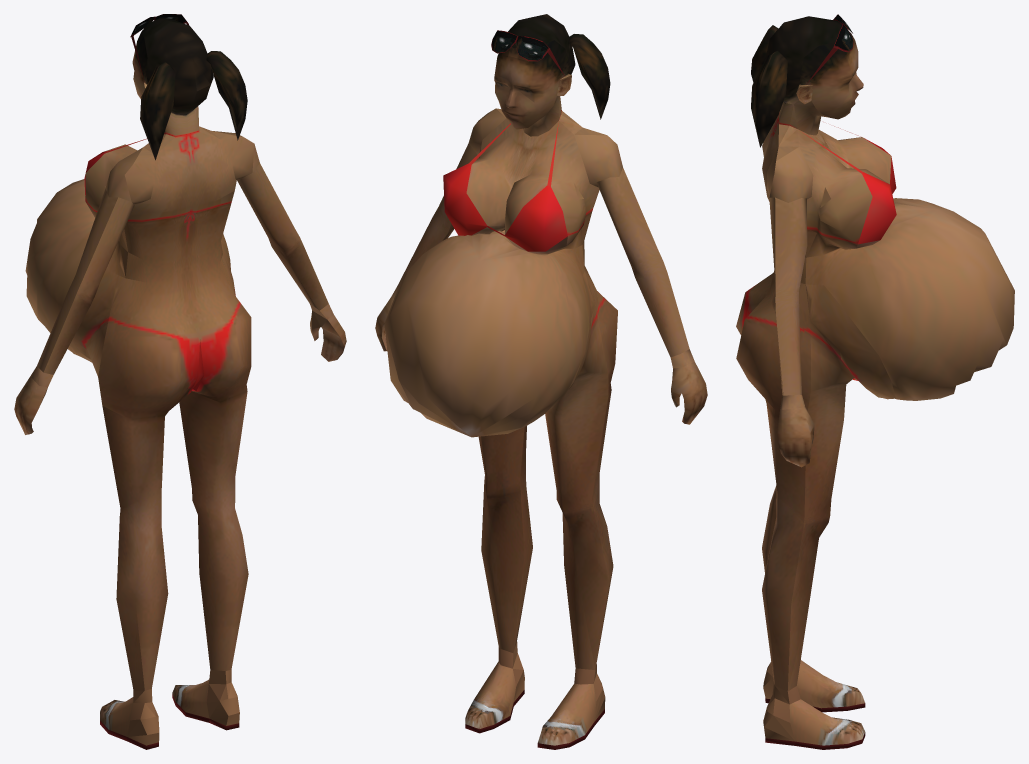
File: preg1.obj
3 renders of one model, left to right at view 1: azimuth 30°, elevation 25°; view 2: azimuth 150°, elevation 25°; view 3: azimuth 270°, elevation 25°, orthographic.
Parts seen in each view (by area): view 1: bitch; view 2: bitch; view 3: bitch.
Part boxes in pixels (x1,y1,x2,y2): bitch: (14, 14, 346, 749); bitch: (375, 14, 707, 749); bitch: (736, 14, 1014, 749).
Size of the model in its own units: 17.25 by 36.04 by 12.9.
